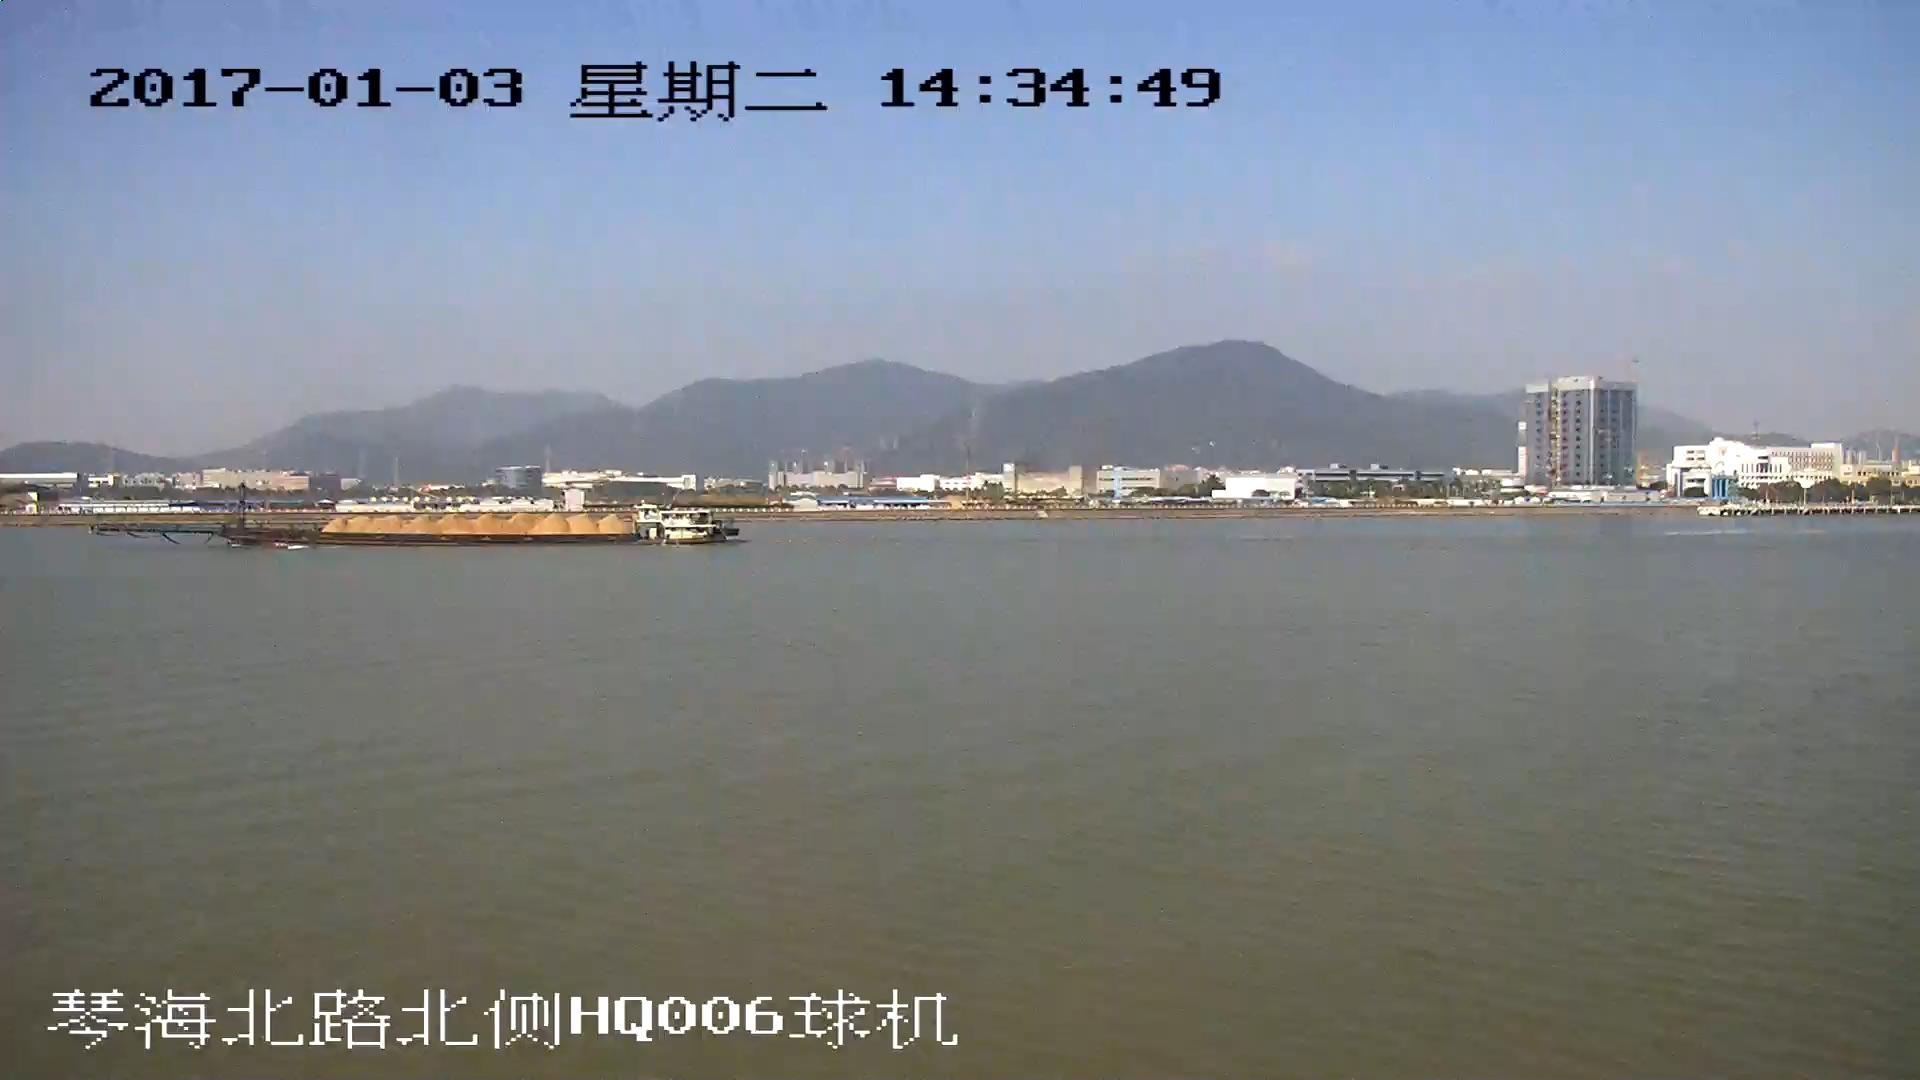ore carrier: (91, 489, 729, 548)
